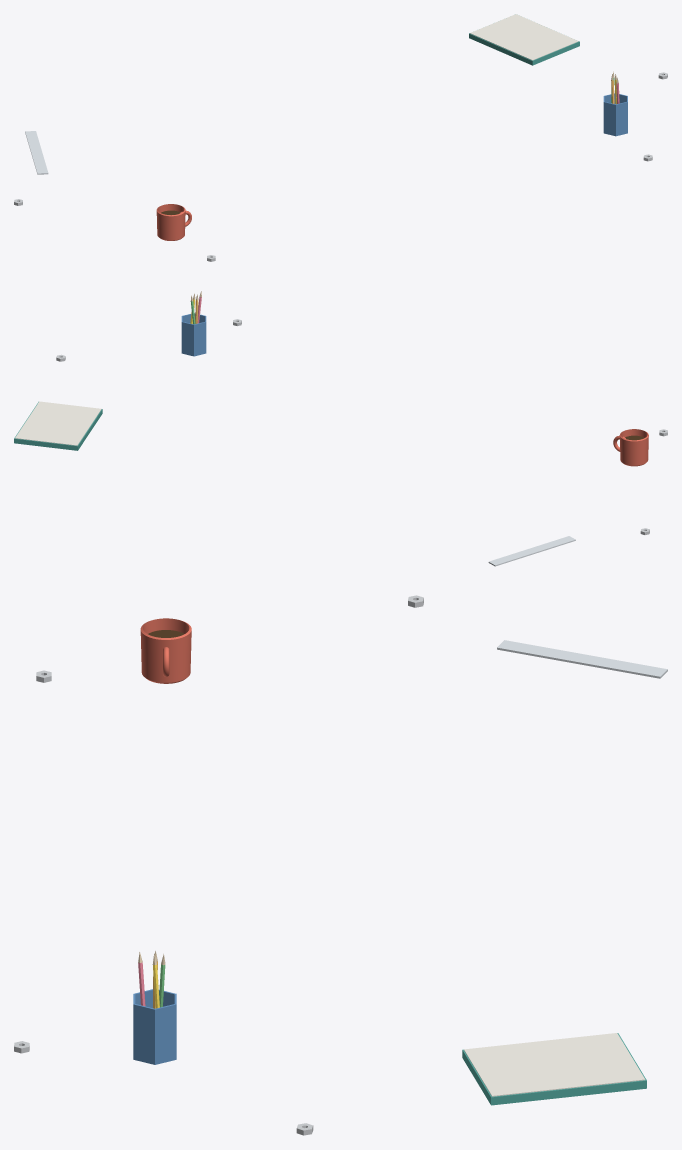
File: decor-bureau.glb
3 views of the same model, one above another, from view 1: azimuth 30°, elevation 25°; view 2: azimuth 150°, elevation 25°; view 3: azimuth 270°, elevation 25° (orthographic). The views are drawn at different scales.
Parts seen in each view (by area): view 1: pages, pot, tasse, cahier, regle; view 2: pages, pot, tasse, regle, cahier; view 3: pages, pot, tasse, regle, cahier.
Part boxes in pixels (x1=…): pages: x1=470, y1=14, x2=578, y2=60; pot: x1=603, y1=93, x2=627, y2=136; tasse: x1=156, y1=204, x2=185, y2=240; cahier: x1=469, y1=33, x2=579, y2=65; regle: x1=25, y1=131, x2=48, y2=174; pages: x1=15, y1=401, x2=101, y2=445; pot: x1=181, y1=313, x2=206, y2=356; tasse: x1=619, y1=429, x2=648, y2=466; regle: x1=488, y1=536, x2=575, y2=566; cahier: x1=14, y1=401, x2=102, y2=450; pages: x1=464, y1=1033, x2=645, y2=1096; pot: x1=133, y1=989, x2=176, y2=1064; tasse: x1=140, y1=618, x2=191, y2=683; regle: x1=497, y1=640, x2=667, y2=678; cahier: x1=462, y1=1033, x2=646, y2=1105.
Size of the model in its own units: 2.28 by 0.2019 by 1.18.
